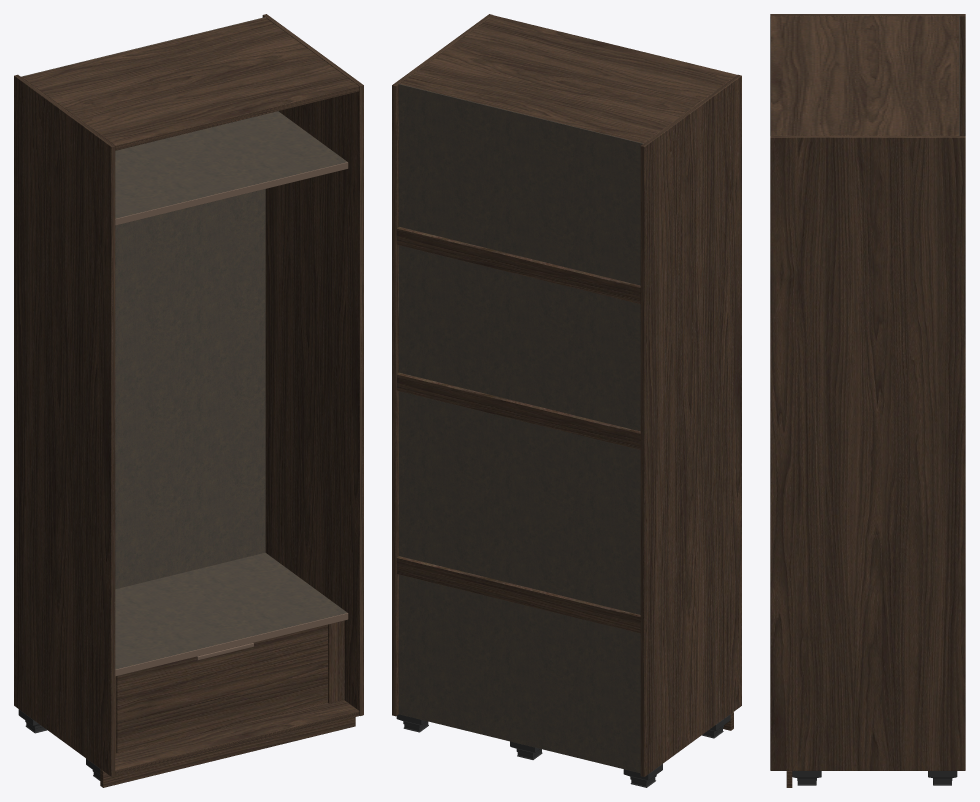
3 renders of one model, left to right at view 1: azimuth 30°, elevation 25°; view 2: azimuth 150°, elevation 25°; view 3: azimuth 270°, elevation 25°, orthographic.
Parts seen in each view (by area): view 1: HK1001020; view 2: HK1001020; view 3: HK1001020.
Boxes of the visible parts, x1=… form: HK1001020: x1=14, y1=14, x2=363, y2=787; HK1001020: x1=392, y1=14, x2=741, y2=787; HK1001020: x1=770, y1=14, x2=965, y2=787.
Size of the model in its own units: 0.9 by 2.2 by 0.6.
Materials: 7 (6 with a texture image).
